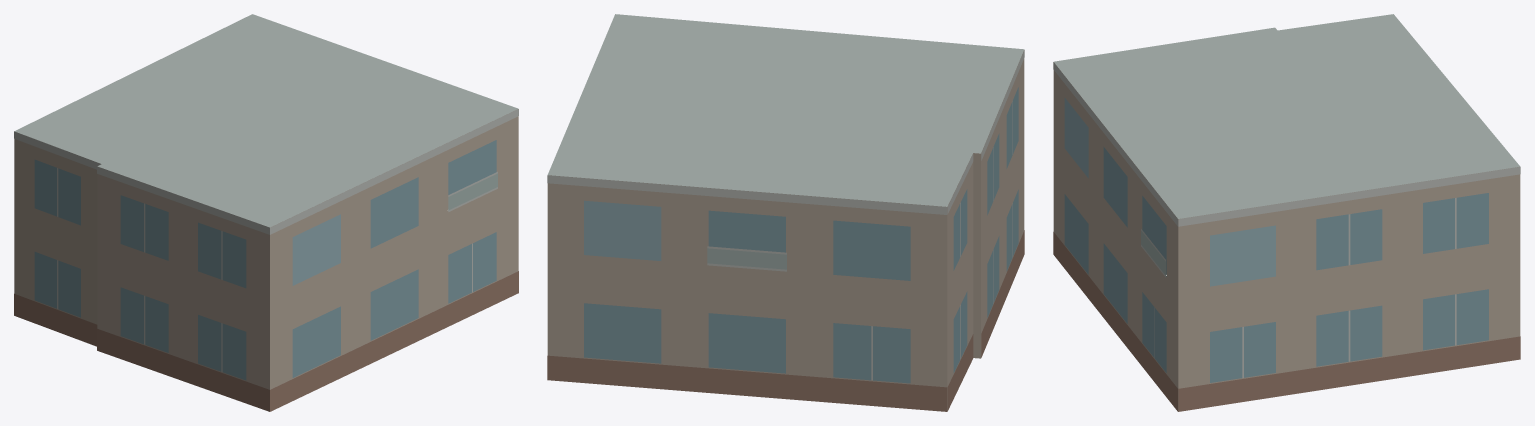
File: survey-upis-32711182.glb
The picture shows the model from 3 angles, left to right: view 1: azimuth 30°, elevation 25°; view 2: azimuth 150°, elevation 25°; view 3: azimuth 270°, elevation 25°; orthographic projection. The views are drawn at different scales.
Parts seen in each view (by area): view 1: survey-upis-32711182.tmp; view 2: survey-upis-32711182.tmp; view 3: survey-upis-32711182.tmp.
Part boxes in pixels (bbox=[...]): survey-upis-32711182.tmp: bbox=[14, 14, 518, 411]; survey-upis-32711182.tmp: bbox=[547, 14, 1024, 411]; survey-upis-32711182.tmp: bbox=[1053, 14, 1520, 411].
Bounding box in the file's own units: 13.92 × 6.1 × 13.4.
